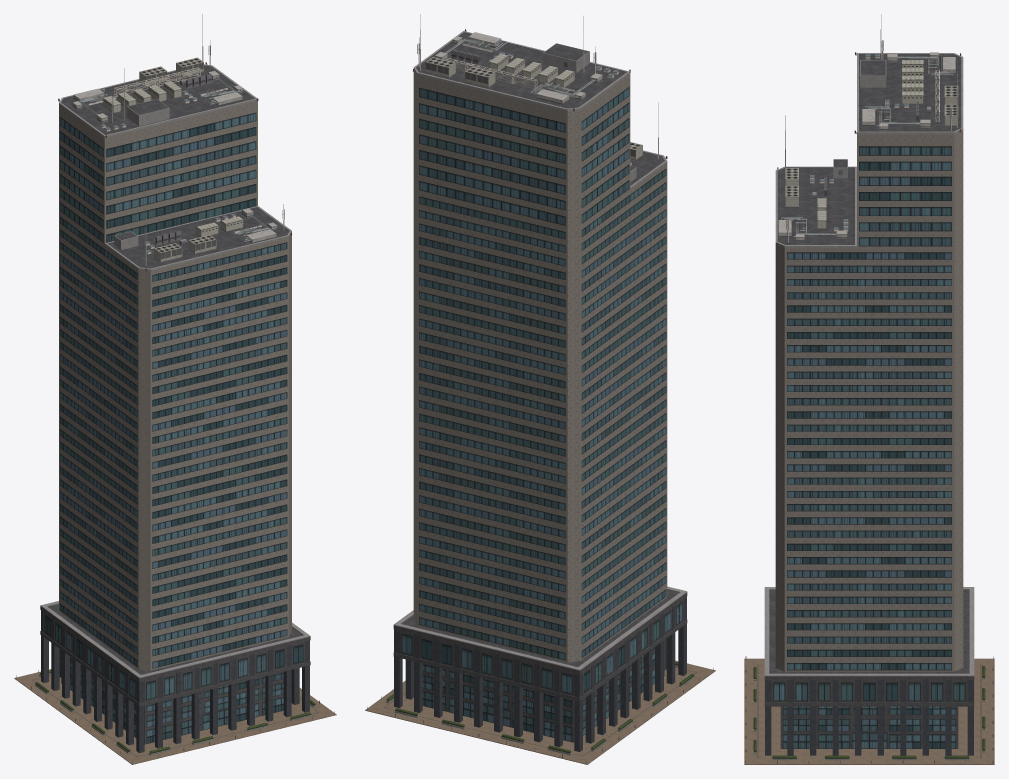
Rendered from jctlowBld50_Da.fbx.
3 renders of one model, left to right at view 1: azimuth 30°, elevation 25°; view 2: azimuth 150°, elevation 25°; view 3: azimuth 270°, elevation 25°, orthographic. The views are drawn at different scales.
Visible parts, largest first — view 1: jctlowBld50_Da; view 2: jctlowBld50_Da; view 3: jctlowBld50_Da.
Part boxes in pixels (x1,y1,x2,y2): jctlowBld50_Da: (14, 14, 336, 764); jctlowBld50_Da: (365, 14, 715, 764); jctlowBld50_Da: (744, 14, 994, 764).
Size of the model in its own units: 6000 by 17825 by 6000.
Materials: 12 (12 with a texture image).
